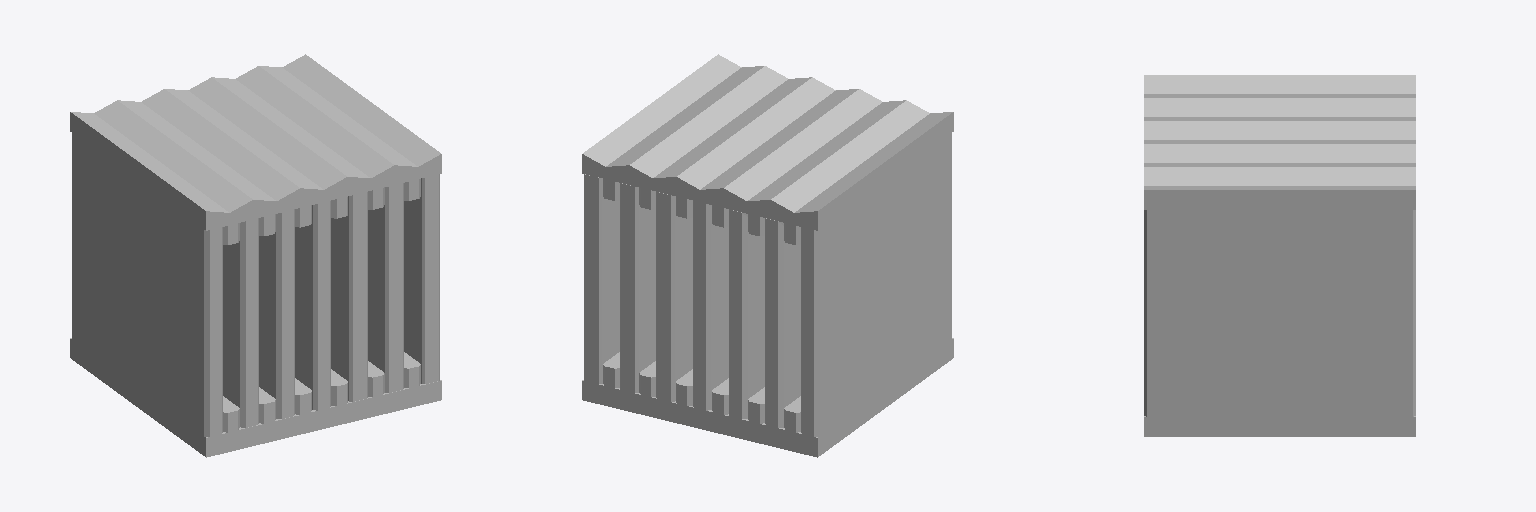
Rendered from Salina_26(Second Model).obj.
3 views of the same model, side by side, from view 1: azimuth 30°, elevation 25°; view 2: azimuth 150°, elevation 25°; view 3: azimuth 270°, elevation 25° (orthographic).
Parts seen in each view (by area): view 1: Object_19.001; view 2: Object_19.001; view 3: Object_19.001.
Part boxes in pixels (left/top/right/bottom): Object_19.001: left=70, top=54, right=441, bottom=457; Object_19.001: left=582, top=54, right=953, bottom=457; Object_19.001: left=1144, top=75, right=1415, bottom=436.
Bounding box in the file's own units: 0.01 × 0.01 × 0.01.